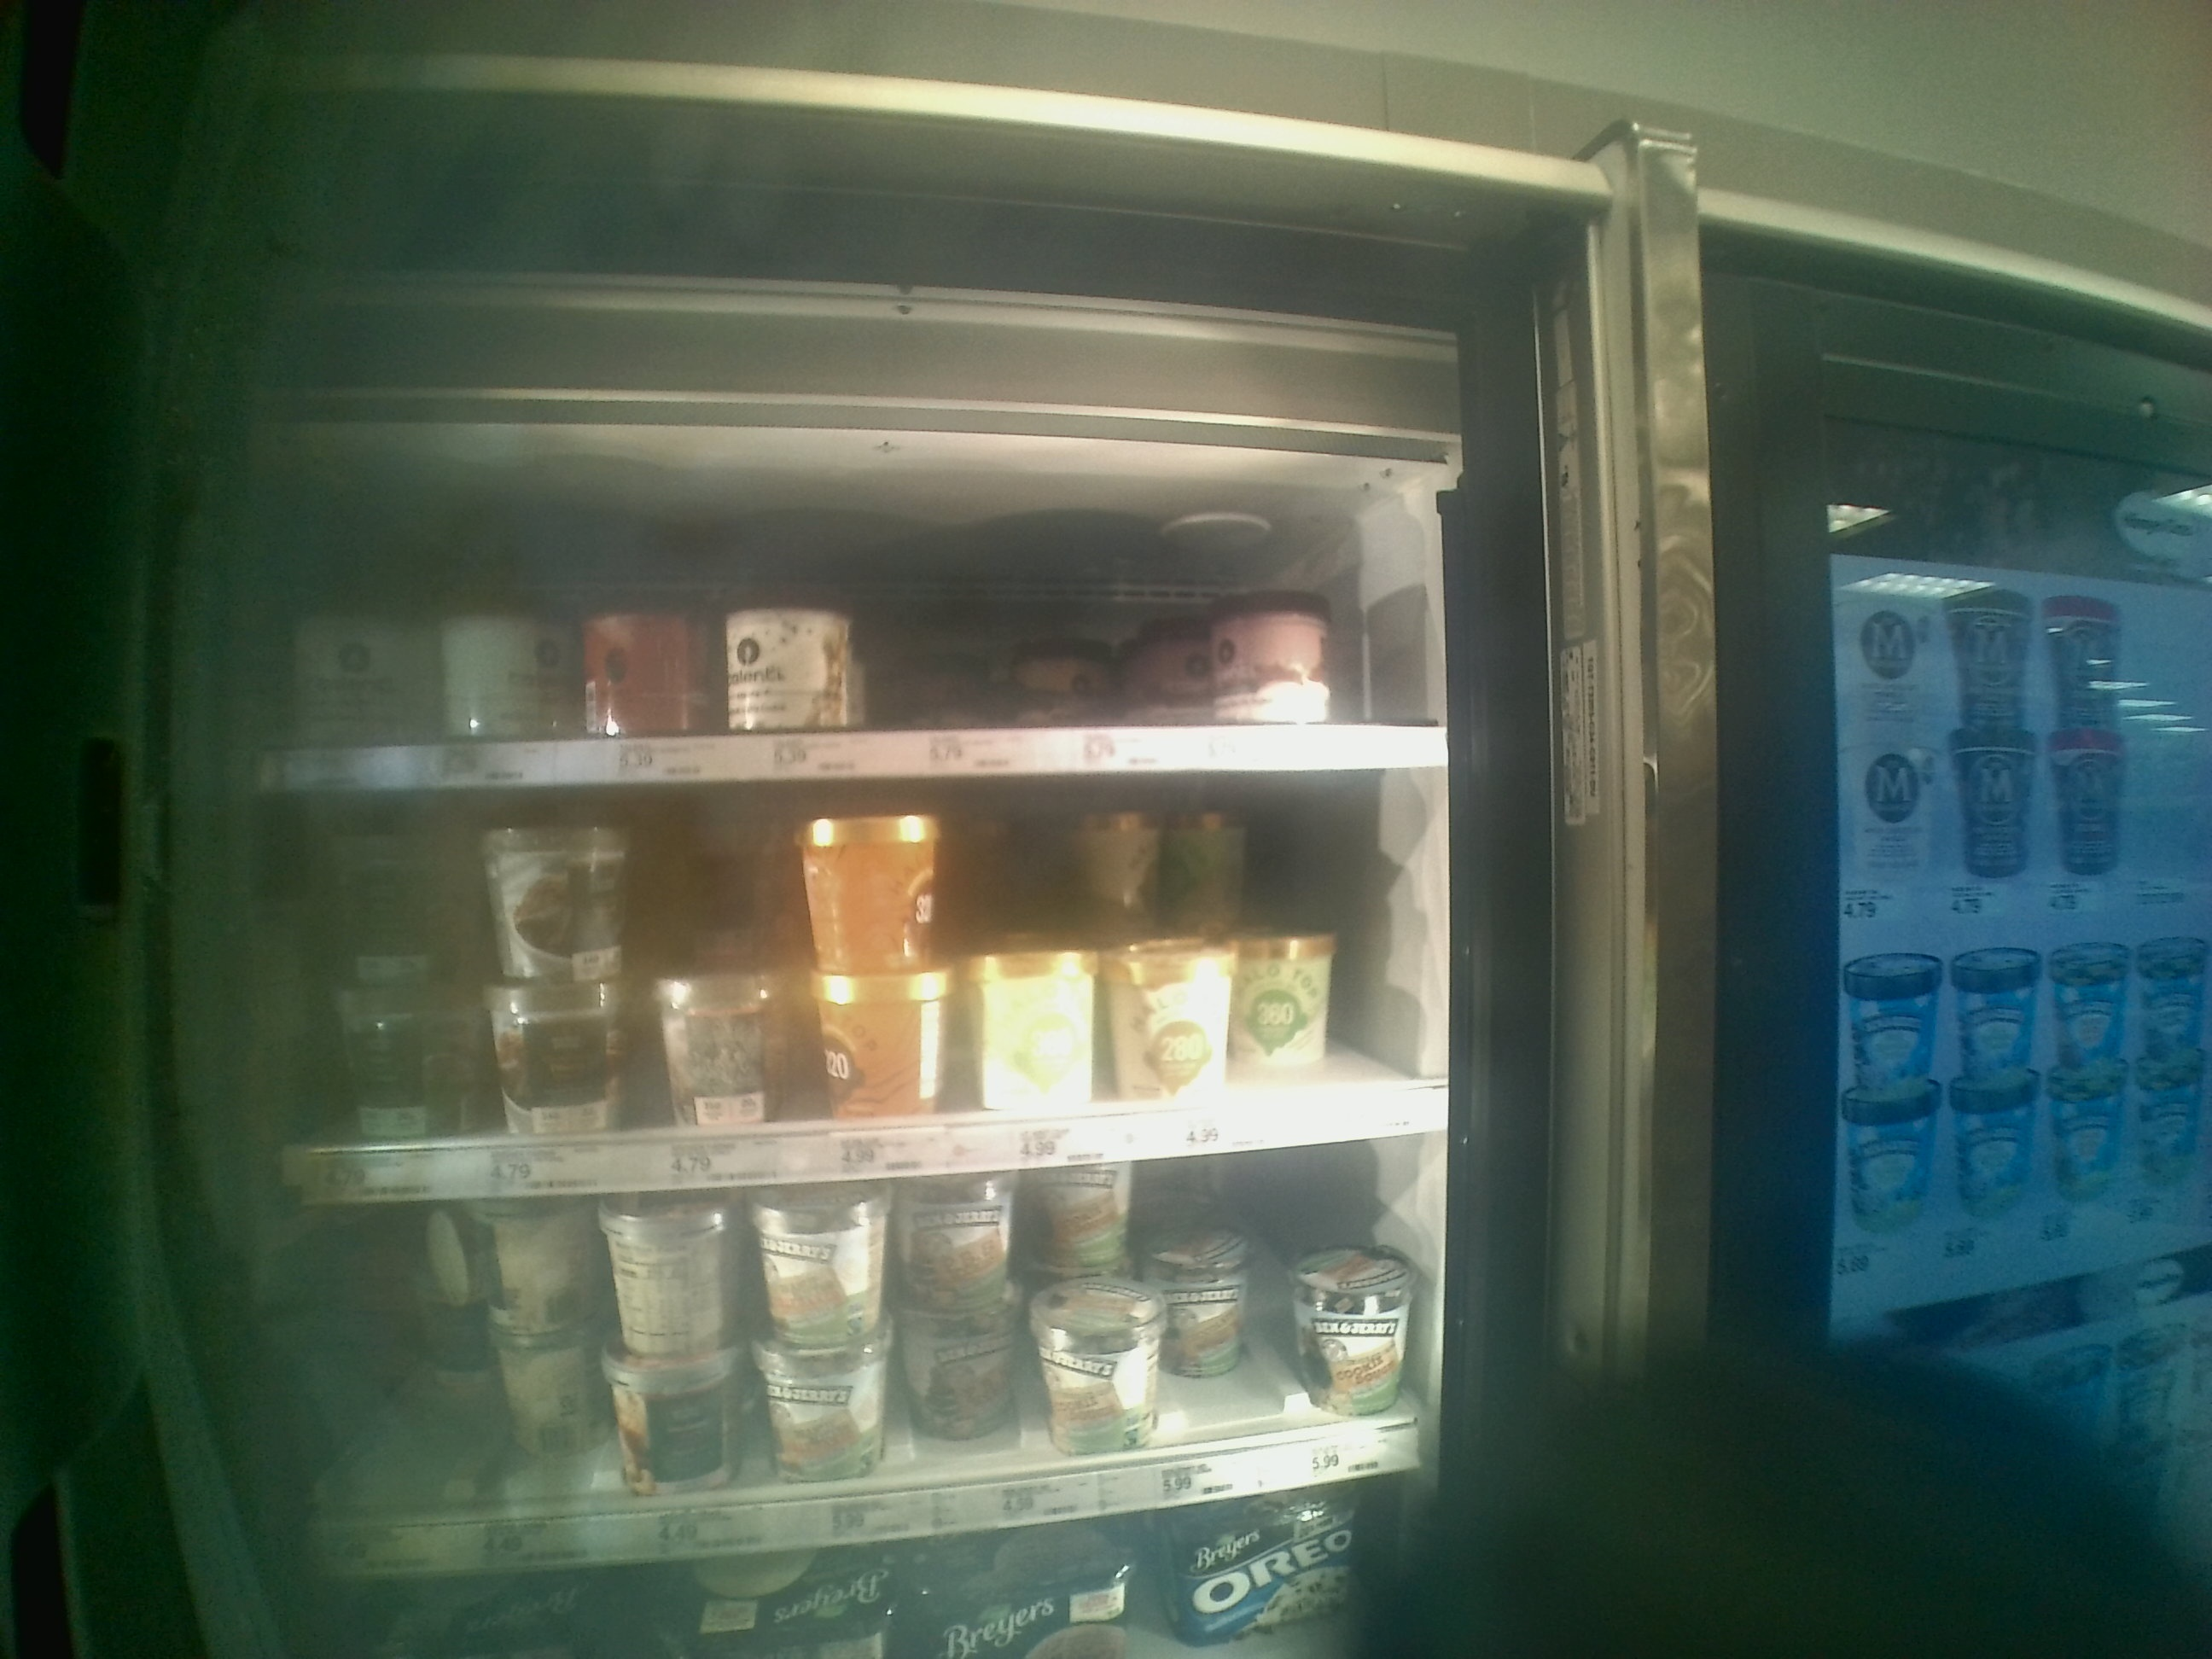ice-cream-shelf: (218, 784, 1447, 1154), (212, 1161, 1440, 1521), (216, 450, 1447, 779)
